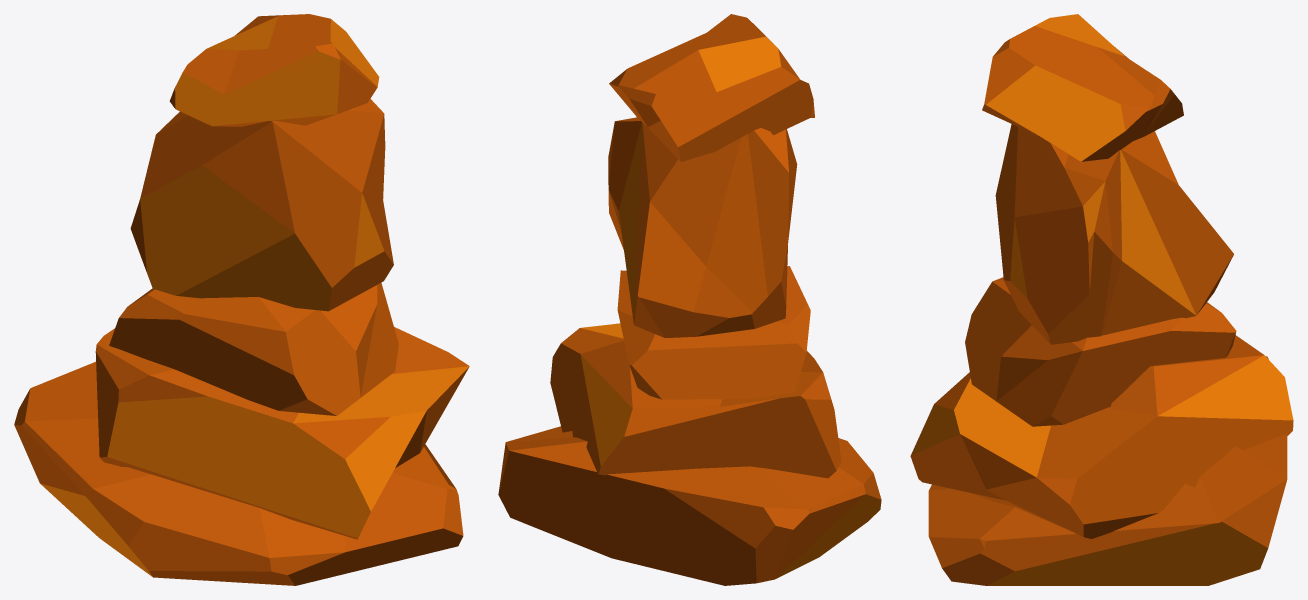
Rendered from stone1.fbx.
3 renders of one model, left to right at view 1: azimuth 30°, elevation 25°; view 2: azimuth 150°, elevation 25°; view 3: azimuth 270°, elevation 25°, orthographic. The views are drawn at different scales.
Visible parts, largest first — view 1: Cube.004; view 2: Cube.004; view 3: Cube.004.
Part boxes in pixels (<box>): Cube.004: <box>14,14,469,585</box>; Cube.004: <box>498,14,881,585</box>; Cube.004: <box>910,14,1293,585</box>.
Bounding box in the file's own units: 315 × 420 × 298.
